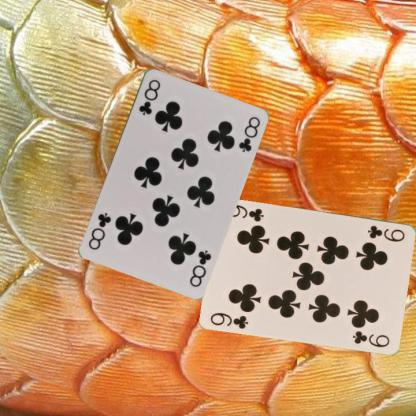8c: (136, 76, 163, 117), (186, 247, 212, 288)
9c: (365, 223, 407, 244), (208, 310, 250, 330)
